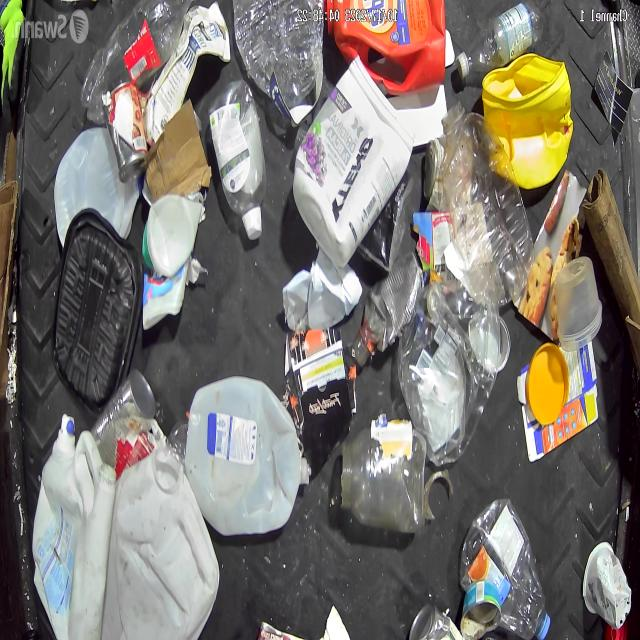can: (90, 373, 154, 475), (369, 251, 422, 346), (105, 80, 148, 184), (460, 578, 502, 640), (407, 604, 466, 640), (422, 139, 442, 199)
milk_jug: (109, 444, 219, 636), (187, 378, 304, 536), (29, 417, 109, 639)
non_white_jug: (482, 55, 574, 191), (333, 2, 447, 98)
plastic_bottle: (80, 0, 193, 126), (209, 85, 268, 238), (456, 3, 542, 77)
